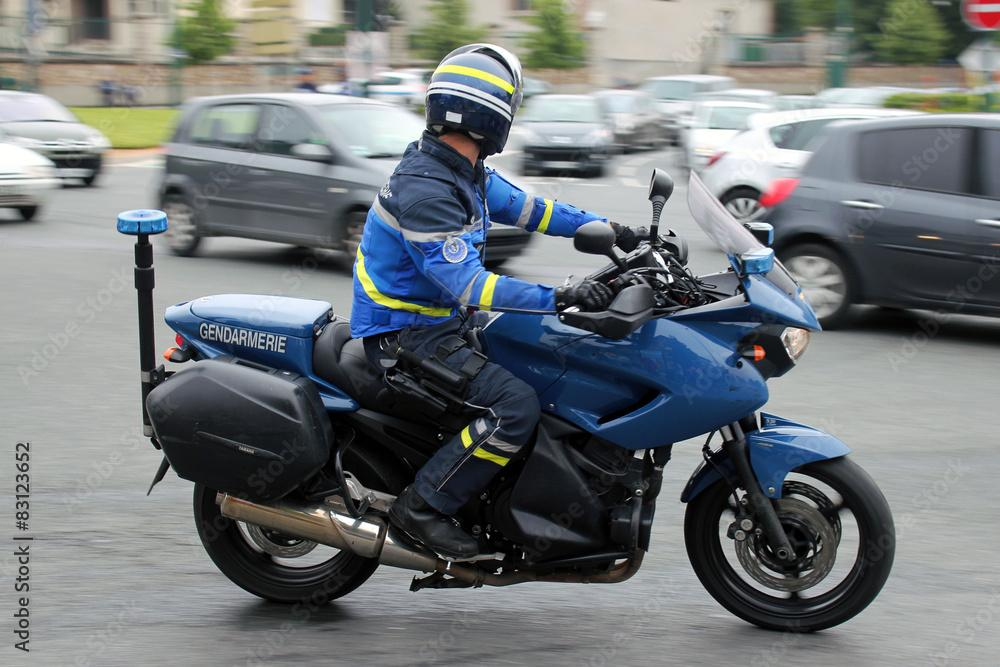helmet: (425, 41, 524, 161)
